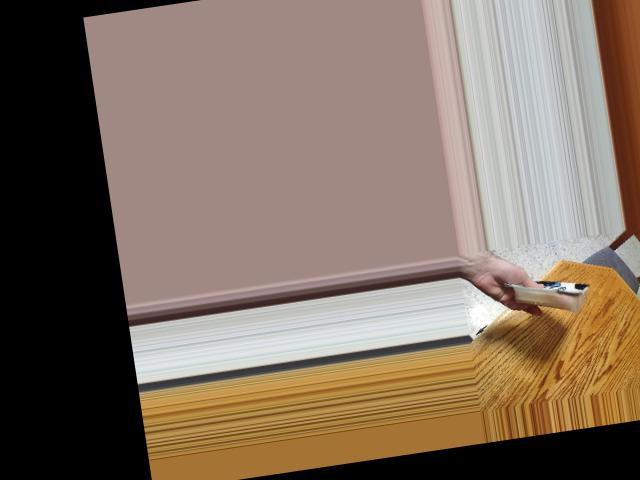cheese: (509, 255, 590, 328)
